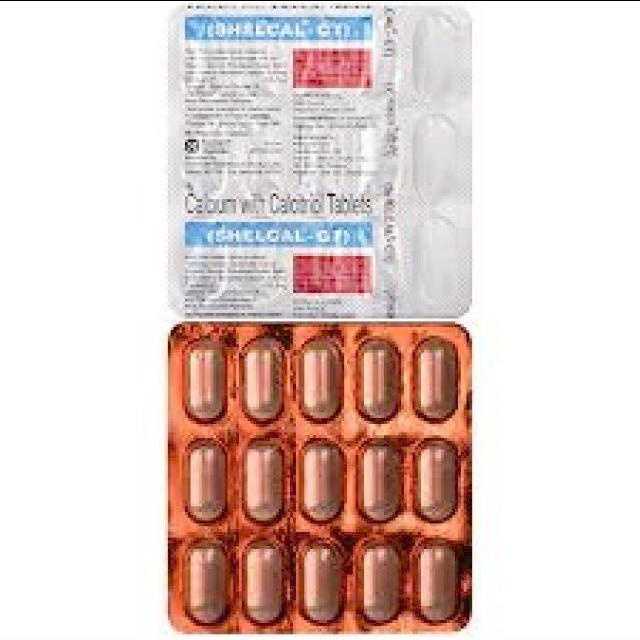authentic: (162, 320, 481, 637), (162, 0, 475, 323)
